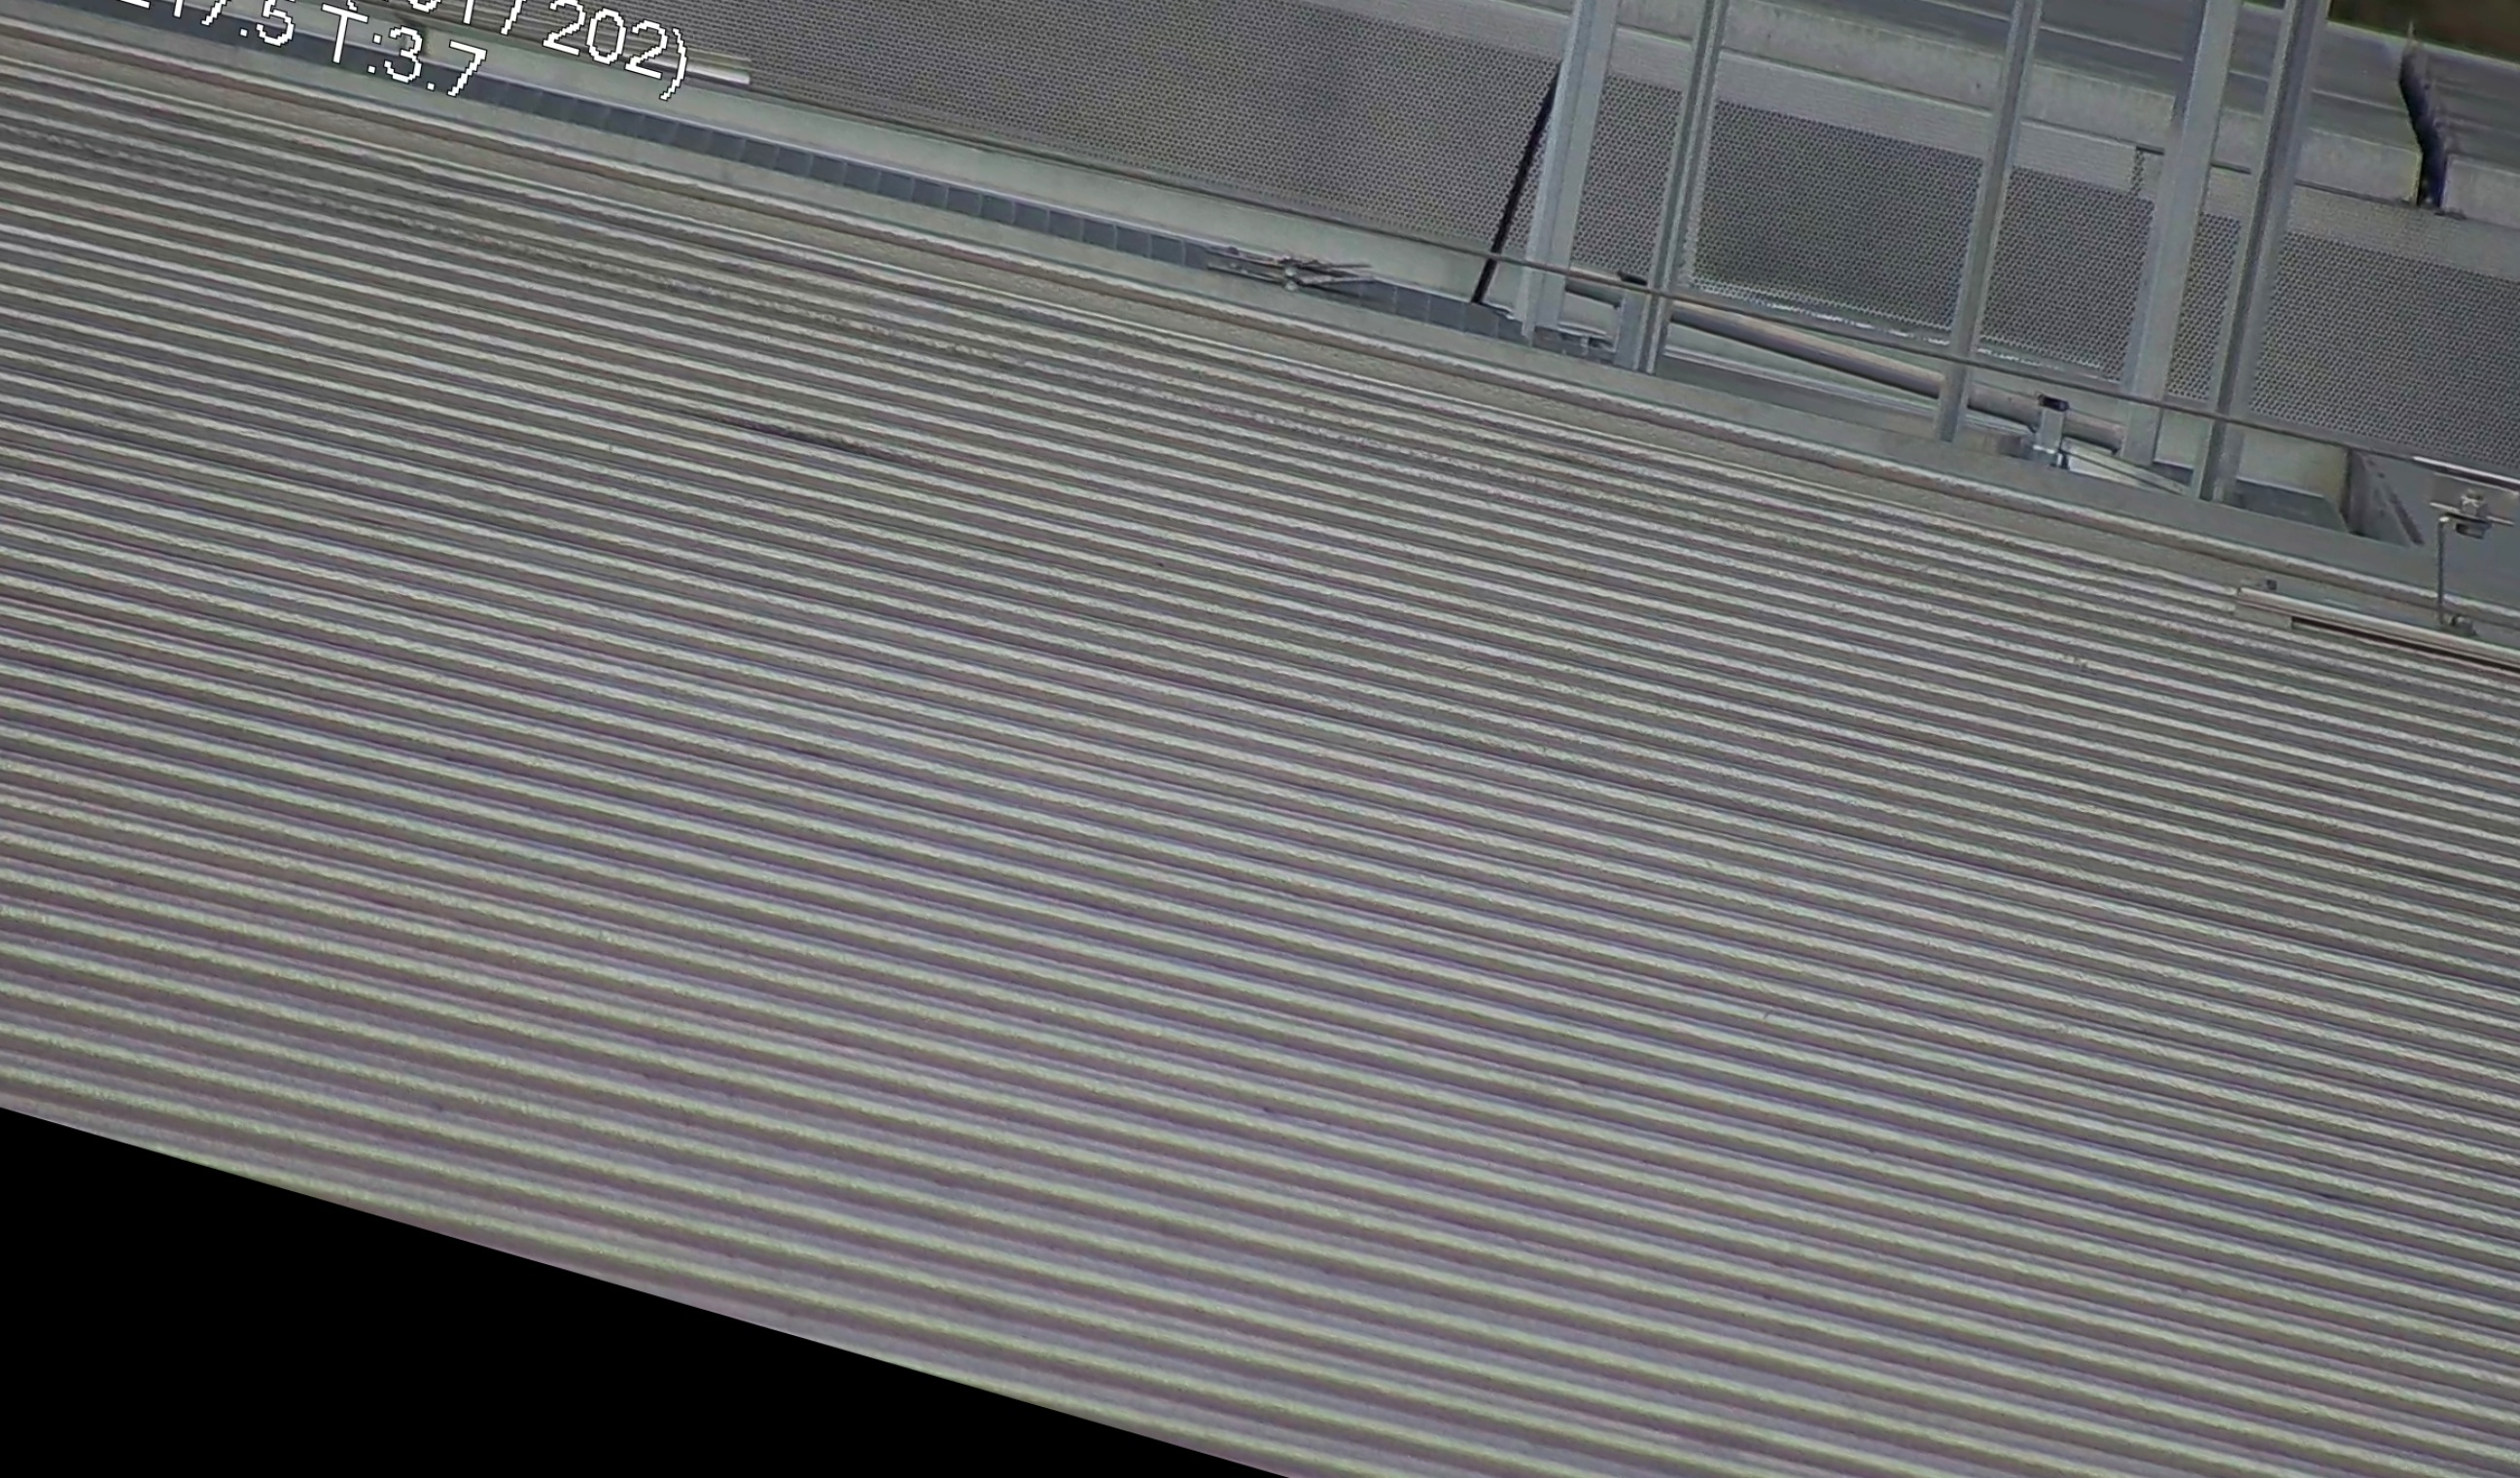Other: (2372, 32, 2513, 239)
